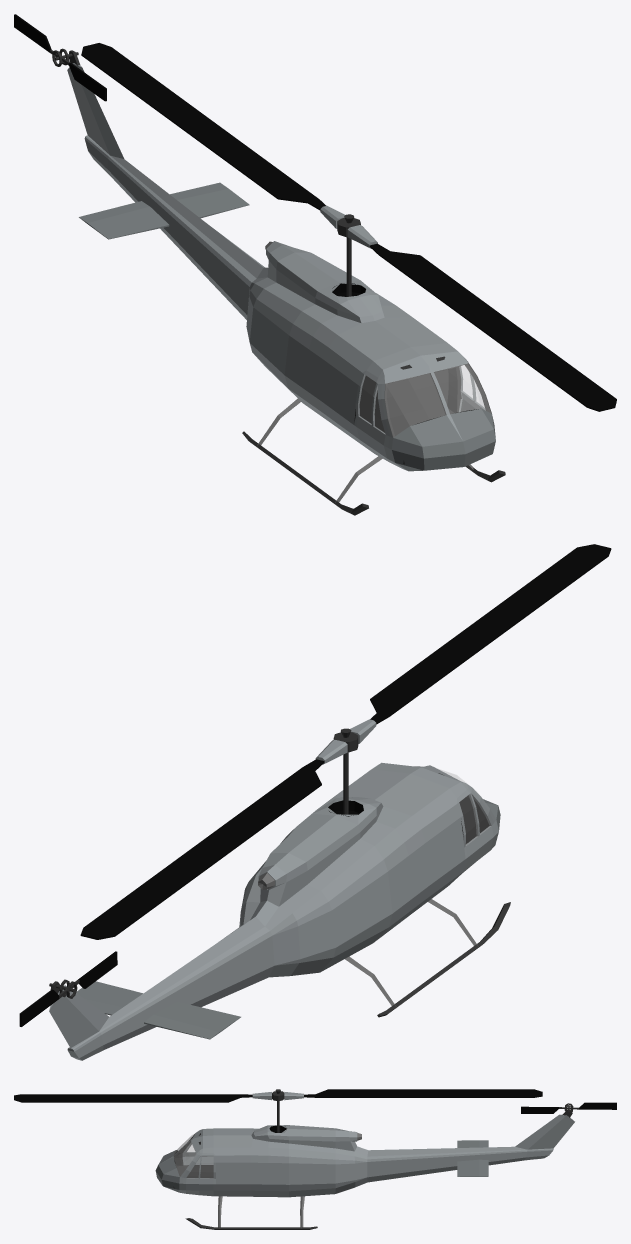
The picture shows the model from 3 angles, top to bottom: view 1: azimuth 30°, elevation 25°; view 2: azimuth 150°, elevation 25°; view 3: azimuth 270°, elevation 25°; orthographic projection. The views are drawn at different scales.
Visible parts, largest first — view 1: Circle.018, Circle.021, Circle.019, Circle.020, Circle.022; view 2: Circle.018, Circle.021, Circle.020, Circle.022; view 3: Circle.018, Circle.021, Circle.023, Circle.022, Circle.019, Circle.020.
Boxes of the visible parts, x1=… form: Circle.018: x1=67, y1=50, x2=505, y2=515; Circle.021: x1=81, y1=43, x2=616, y2=411; Circle.019: x1=384, y1=364, x2=490, y2=437; Circle.020: x1=354, y1=370, x2=390, y2=459; Circle.022: x1=14, y1=14, x2=106, y2=101; Circle.018: x1=49, y1=762, x2=510, y2=1060; Circle.021: x1=80, y1=544, x2=611, y2=939; Circle.020: x1=457, y1=788, x2=496, y2=871; Circle.022: x1=19, y1=951, x2=117, y2=1026; Circle.018: x1=155, y1=1109, x2=574, y2=1229; Circle.021: x1=14, y1=1089, x2=542, y2=1132; Circle.023: x1=182, y1=1153, x2=215, y2=1190; Circle.022: x1=521, y1=1102, x2=616, y2=1113; Circle.019: x1=174, y1=1133, x2=195, y2=1176; Circle.020: x1=182, y1=1142, x2=213, y2=1165.
Bounding box in the file's own units: 235 × 364 × 1630.
